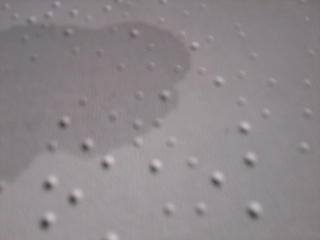Water_detected: (2, 44, 189, 175)
